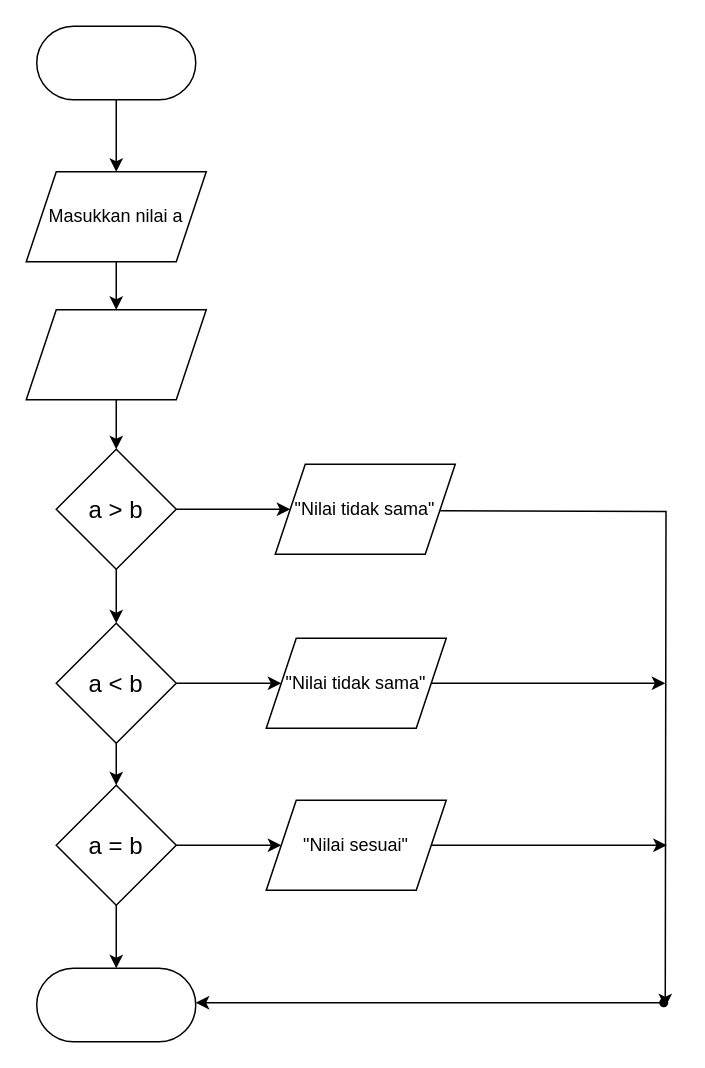
Some shapes in this 705 by 1068 pixel diagram are drawn without their labels. The shapes that lost their labels are listed below. From the top down, each one's box as (x1, y1, x2, y2) in pixels, then its label:
(35, 25, 196, 100): Mulai
(25, 308, 206, 400): Masukkan nilai b
(35, 967, 196, 1042): Selesai
